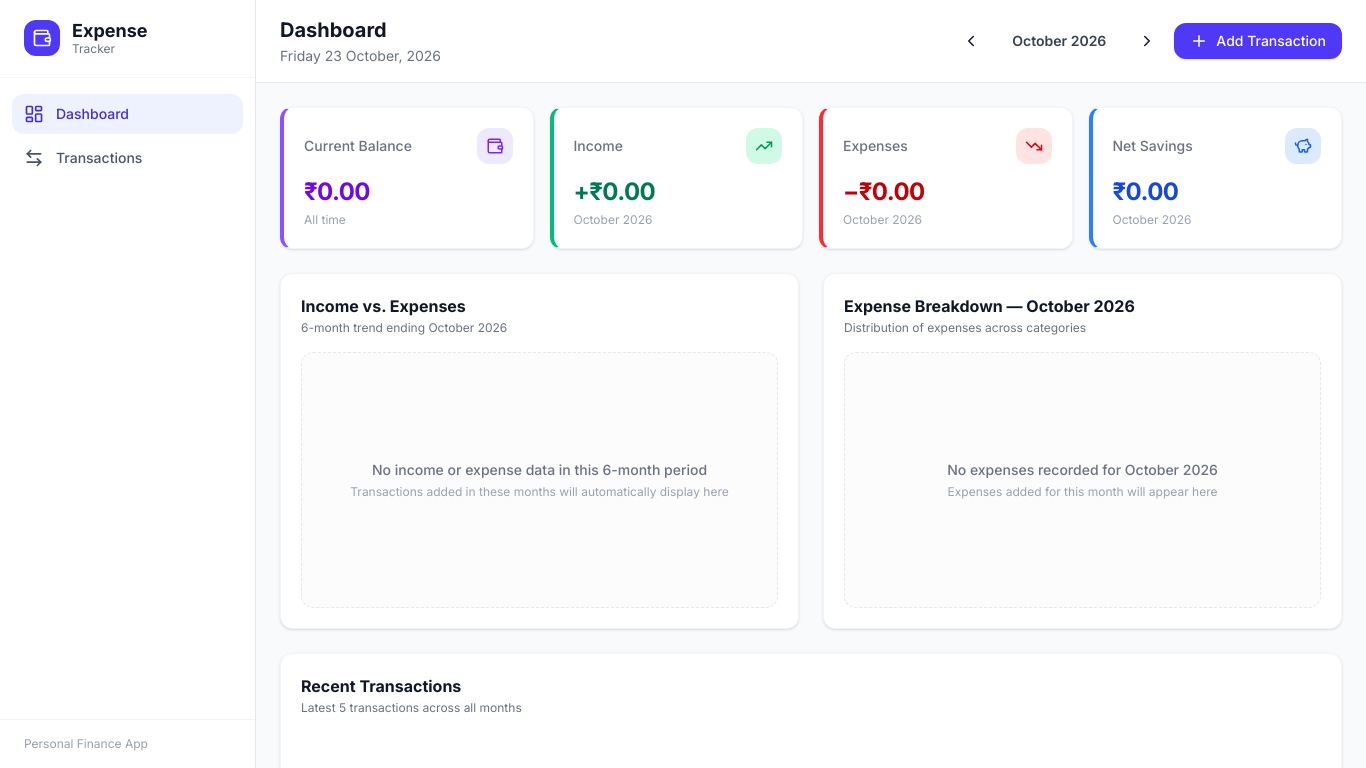
Test: Hooks and Components Integration Tests › announces amount validation errors without closing modal
The image size is (1366, 768).
Click the button with id "header-add-transaction". click: coordinates (1258, 41)
box: left=1174, top=23, right=1342, bottom=59
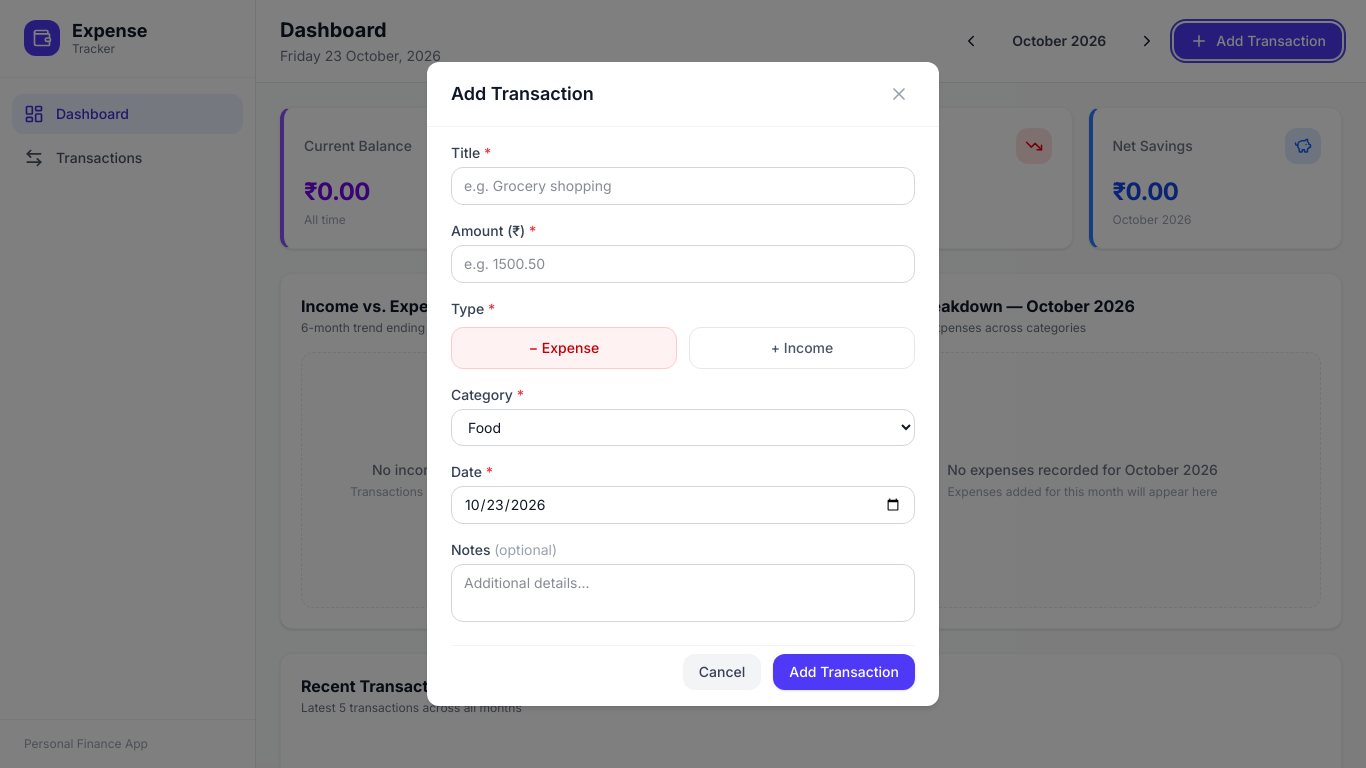
Type "Test item" into the field labelled "Title *". click: coordinates (683, 186)
box: left=451, top=167, right=915, bottom=205
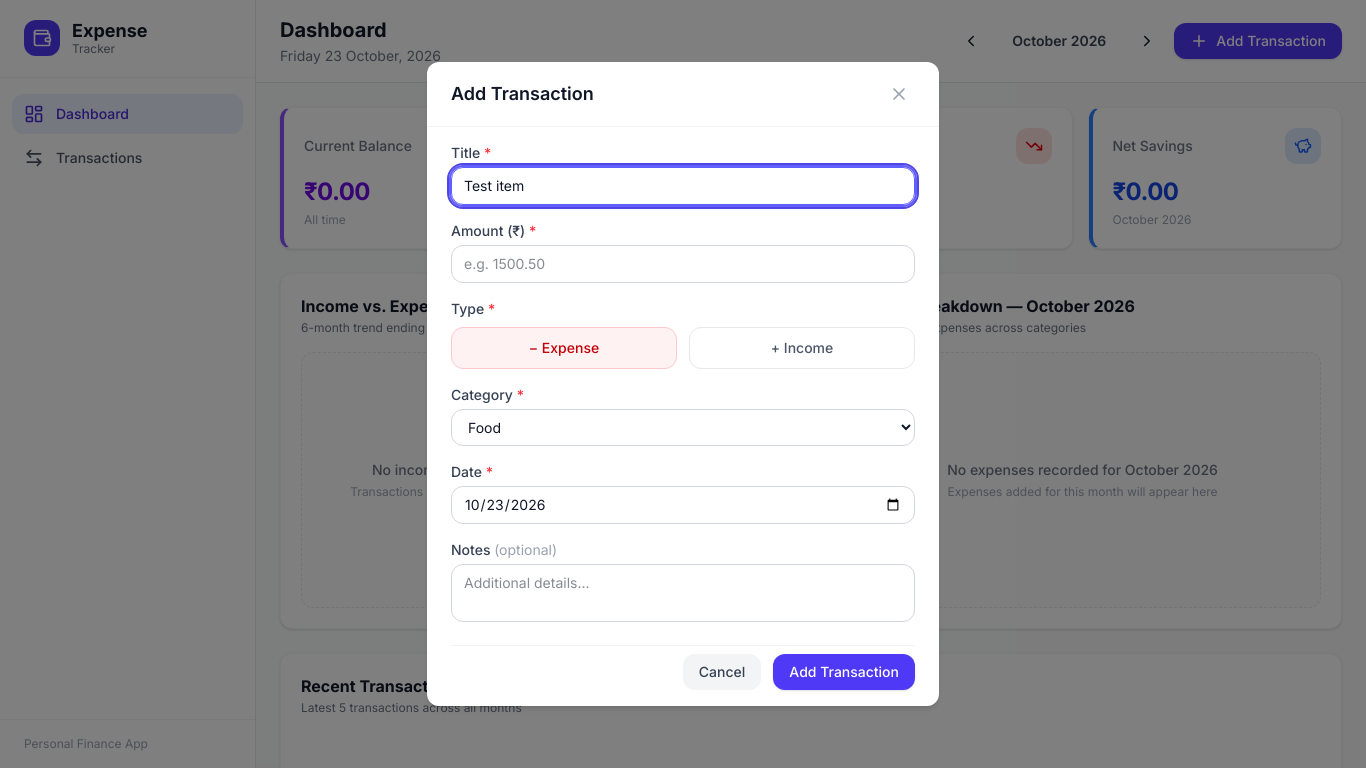
Type "1,000" into the field labelled "Amount (₹) *". click: coordinates (683, 264)
box: left=451, top=245, right=915, bottom=283
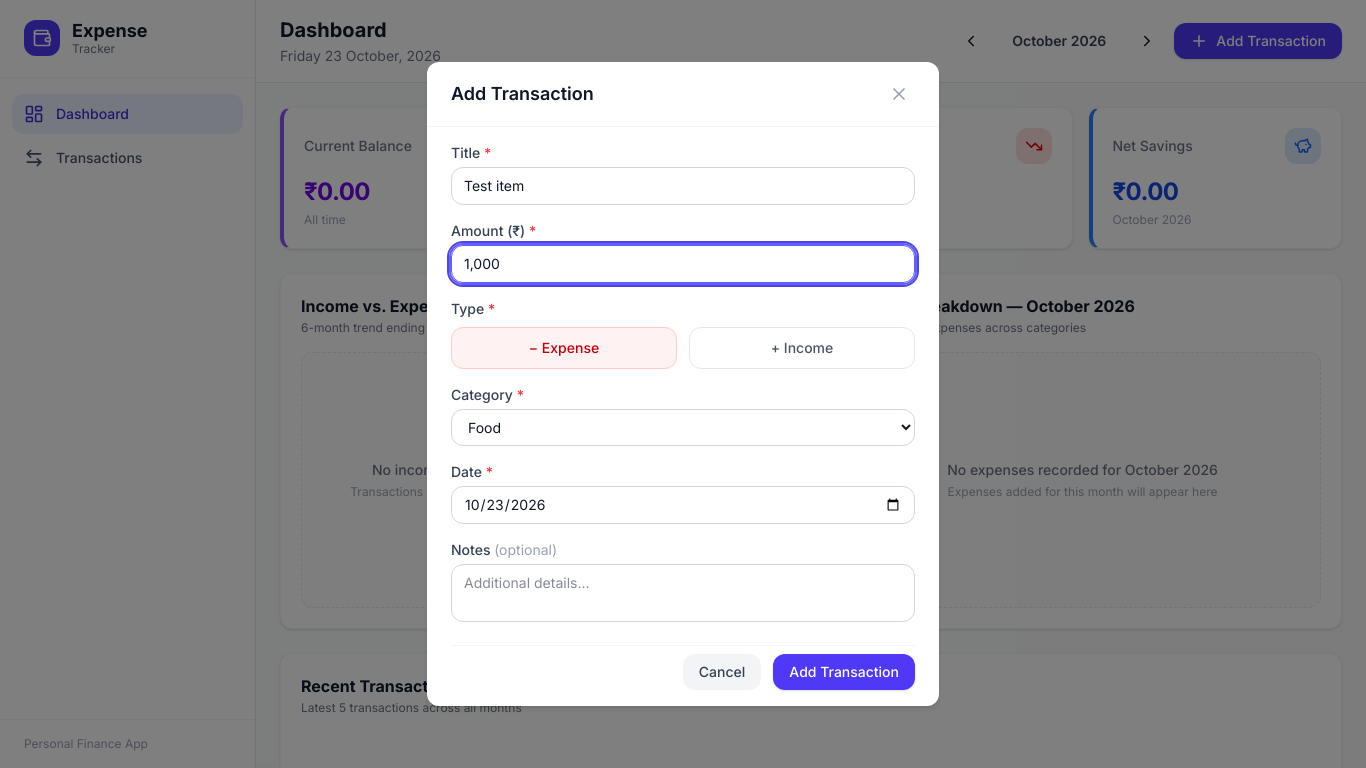
Click the button "Add Transaction". click: coordinates (844, 672)
box: left=773, top=654, right=915, bottom=690
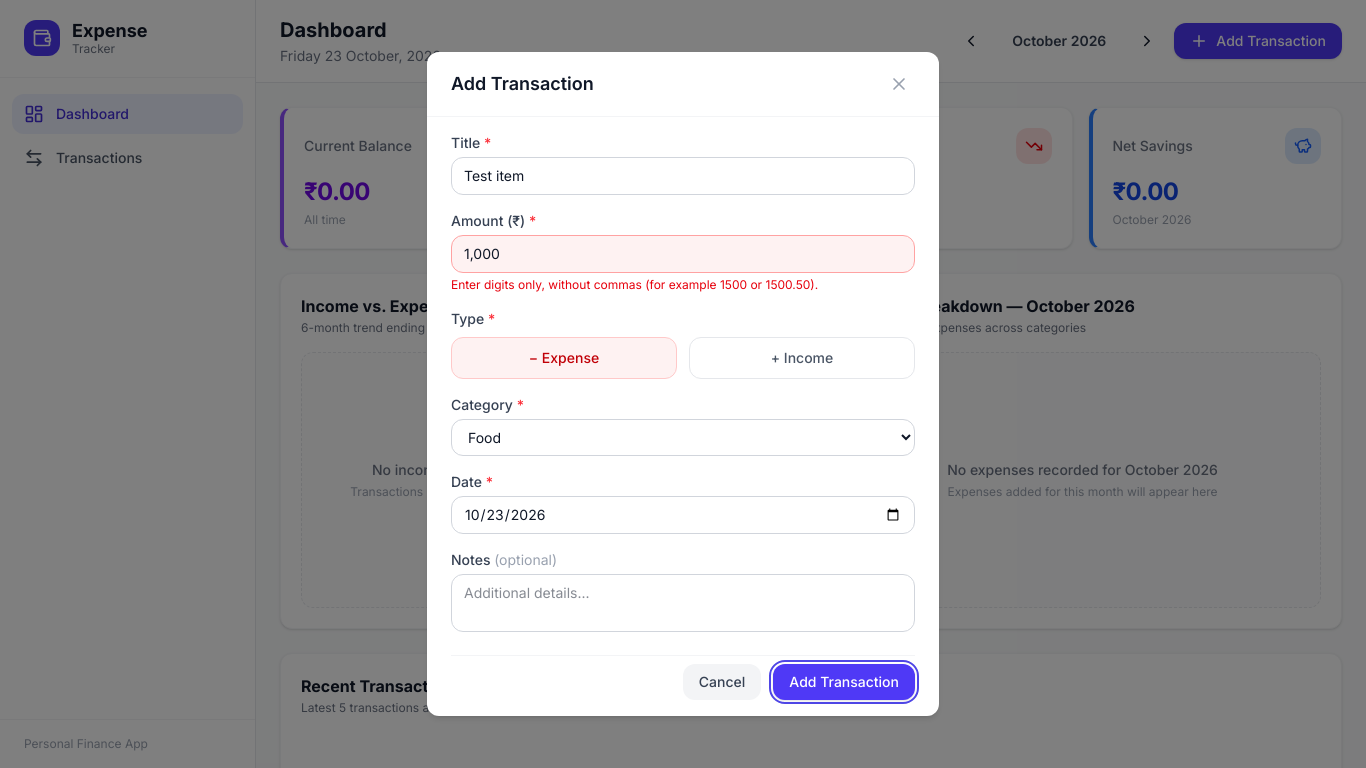
Now the dialog is shown, box left=427, top=52, right=939, bottom=716
Now the text "Enter digits only, without commas (for example 1500 or 1500.50)." is shown, box left=451, top=277, right=818, bottom=292
